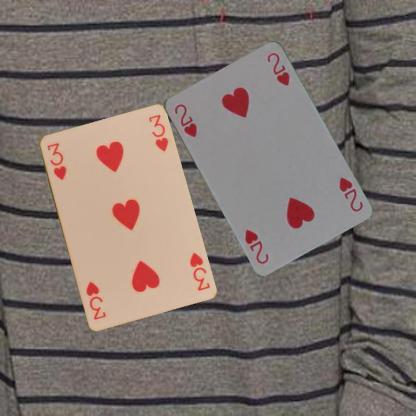2h: (336, 174, 364, 214), (171, 101, 198, 139)
3h: (187, 249, 211, 292), (44, 140, 68, 181)
